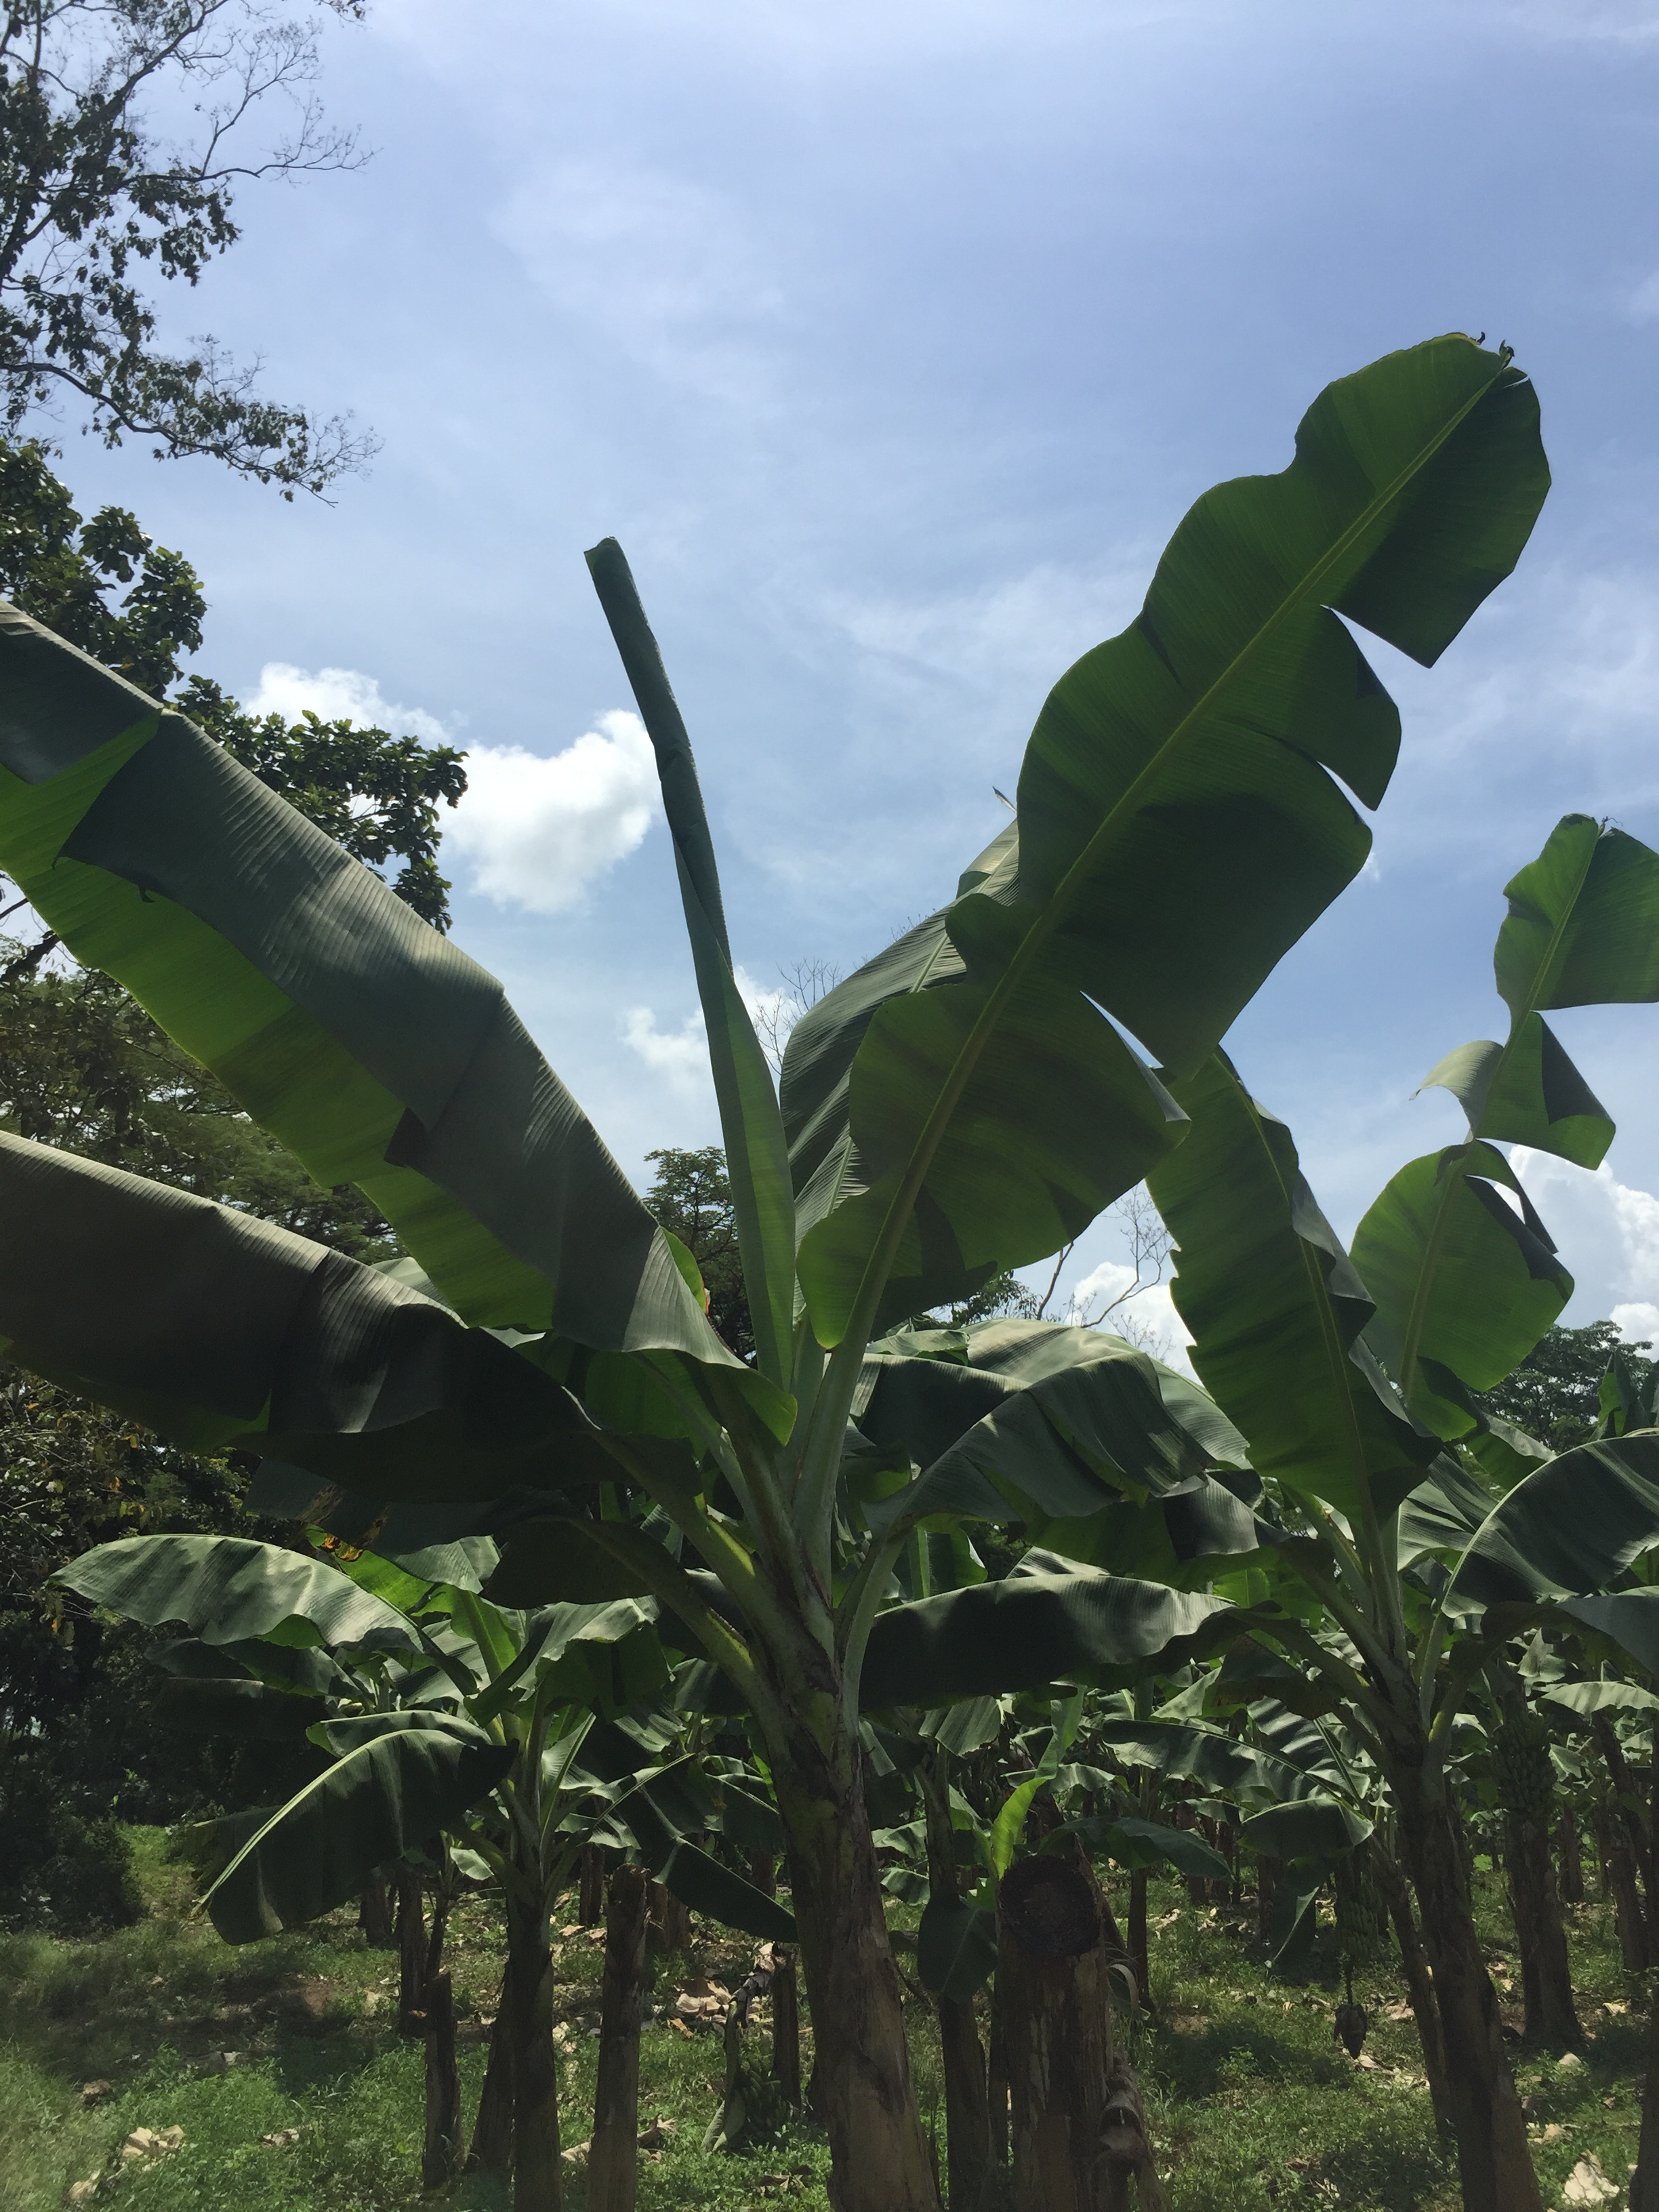candleleafs: (582, 540, 795, 1407)
